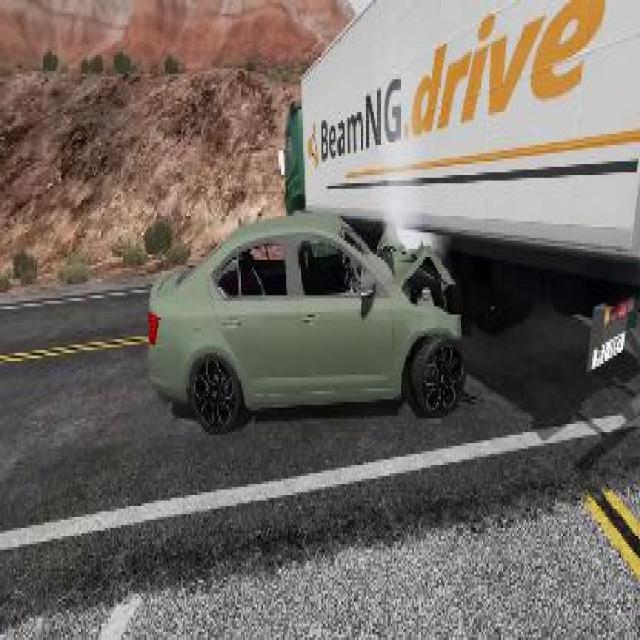accident: (137, 0, 638, 438)
